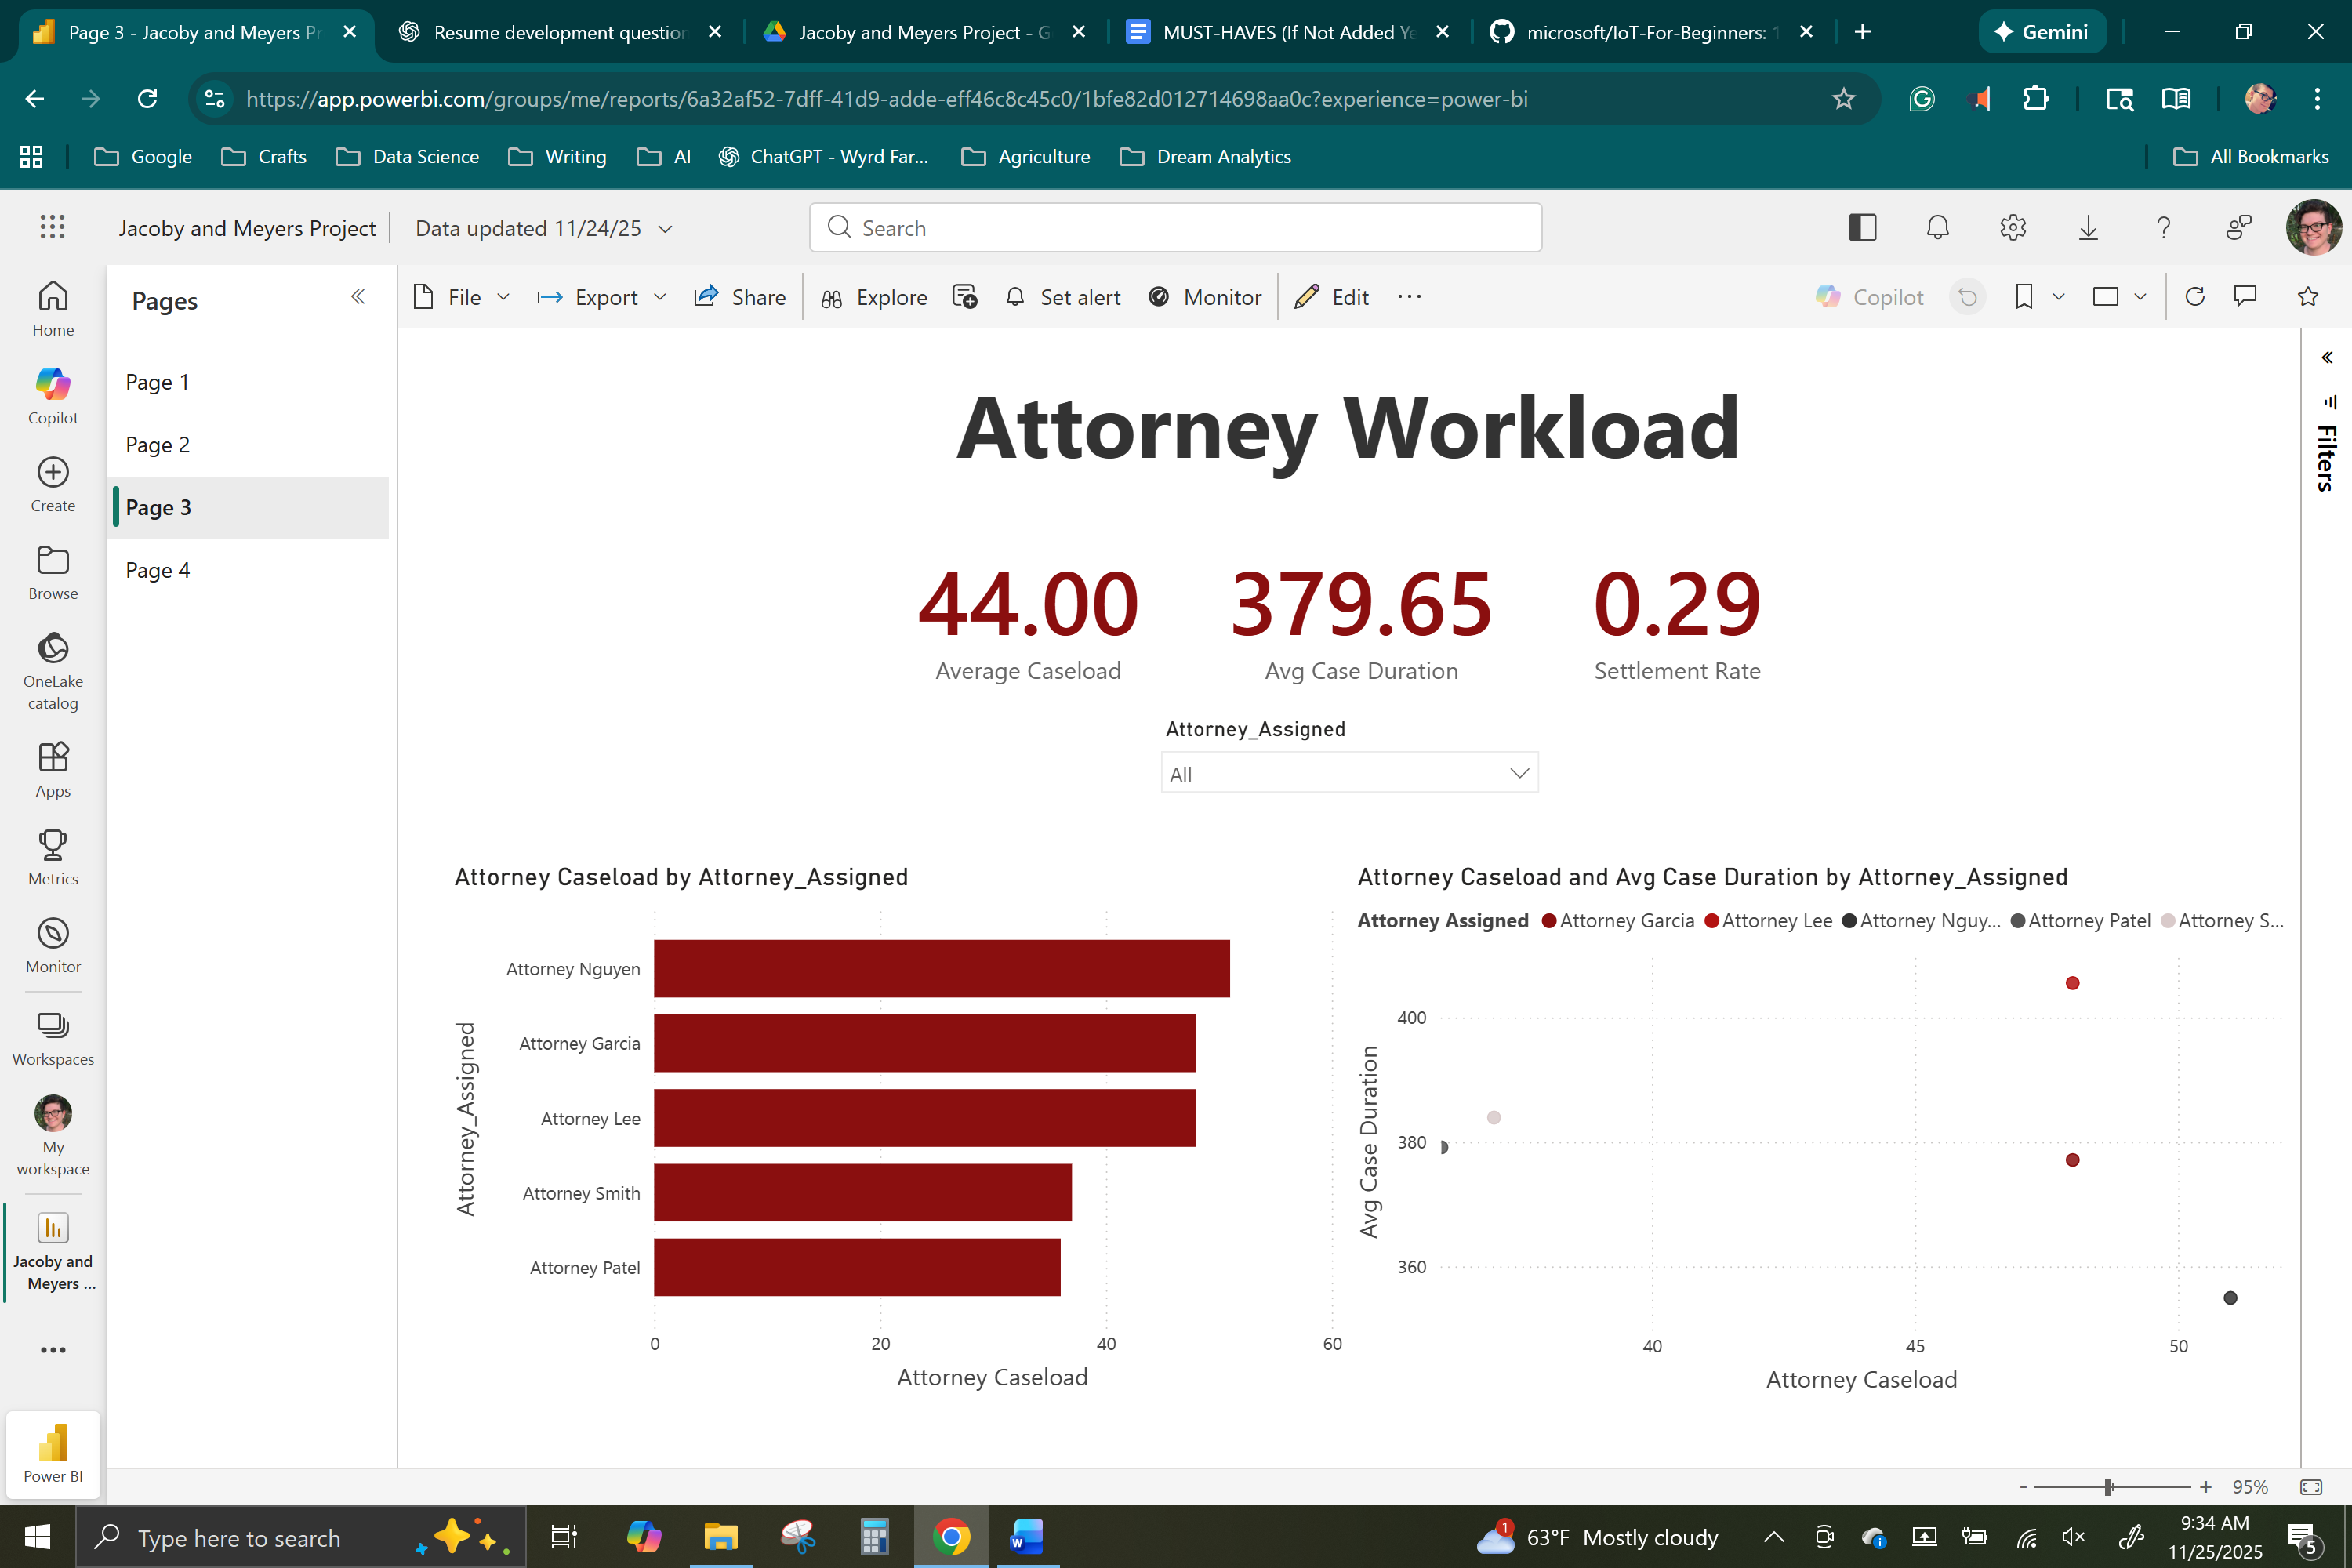

The page's visual inventory and layout, read from the dashboard file:
{"tool":"powerbi","page":{"name":"Page 3","canvas":[1280,720],"ordinal":2},"visuals":[{"type":"textbox","box":[0,19.2,1280,103.5],"z":0},{"type":"card","fields":{"Values":["cases.Average Caseload"]},"box":[329.6,126.3,190.1,129.9],"z":1000},{"type":"slicer","fields":{"Values":["cases.Attorney_Assigned"]},"box":[502.9,256.2,274.3,74.6],"z":2000},{"type":"card","fields":{"Values":["cases.Avg Case Duration"]},"box":[549.2,126.3,199.7,129.9],"z":3000},{"type":"card","fields":{"Values":["cases.Settlement Rate"]},"box":[766.3,126.3,190.1,129.9],"z":4000},{"type":"barChart","fields":{"Category":["cases.Attorney_Assigned"],"Y":["cases.Attorney Caseload"]},"box":[32.5,359.7,607.5,360.9],"z":5000},{"type":"scatterChart","fields":{"X":["cases.Attorney Caseload"],"Y":["cases.Avg Case Duration"],"Series":["cases.Attorney_Assigned"]},"box":[640,359.7,640,362.1],"z":6000}]}

Visuals, with their boxes on the page's 1280x720 design canvas (x1, y1, x2, y2). These are canvas units, not pixel positions in the 2352x1568 screenshot, which may show the page scaled, cropped or inside an application window:
textbox: select_region(0, 19, 1280, 123)
card - cases.Average Caseload: select_region(330, 126, 520, 256)
slicer - cases.Attorney_Assigned: select_region(503, 256, 777, 331)
card - cases.Avg Case Duration: select_region(549, 126, 749, 256)
card - cases.Settlement Rate: select_region(766, 126, 956, 256)
barChart - cases.Attorney_Assigned x cases.Attorney Caseload: select_region(32, 360, 640, 721)
scatterChart - cases.Attorney Caseload x cases.Avg Case Duration: select_region(640, 360, 1280, 722)
